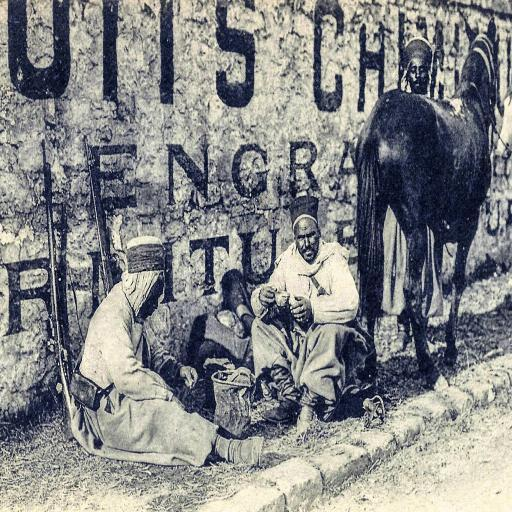horse: (355, 14, 495, 386)
